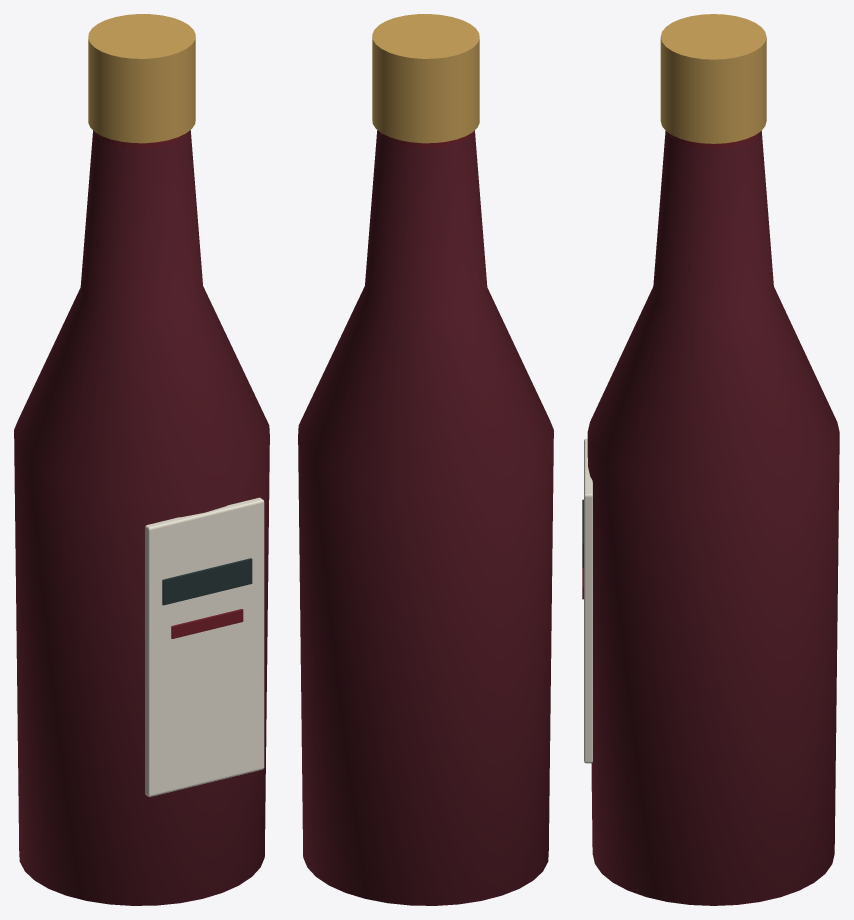
Rendered from wp-bouteille-de-vinaigre.glb.
3 views of the same model, side by side, from view 1: azimuth 30°, elevation 25°; view 2: azimuth 150°, elevation 25°; view 3: azimuth 270°, elevation 25° (orthographic).
Parts seen in each view (by area): view 1: wp-bouteille-de-vinaigre; view 2: wp-bouteille-de-vinaigre; view 3: wp-bouteille-de-vinaigre.
Boxes of the visible parts, bbox=[...] form: wp-bouteille-de-vinaigre: bbox=[14, 14, 269, 905]; wp-bouteille-de-vinaigre: bbox=[298, 14, 553, 905]; wp-bouteille-de-vinaigre: bbox=[582, 14, 839, 905].
Bounding box in the file's own units: 0.08 × 0.28 × 0.08.
